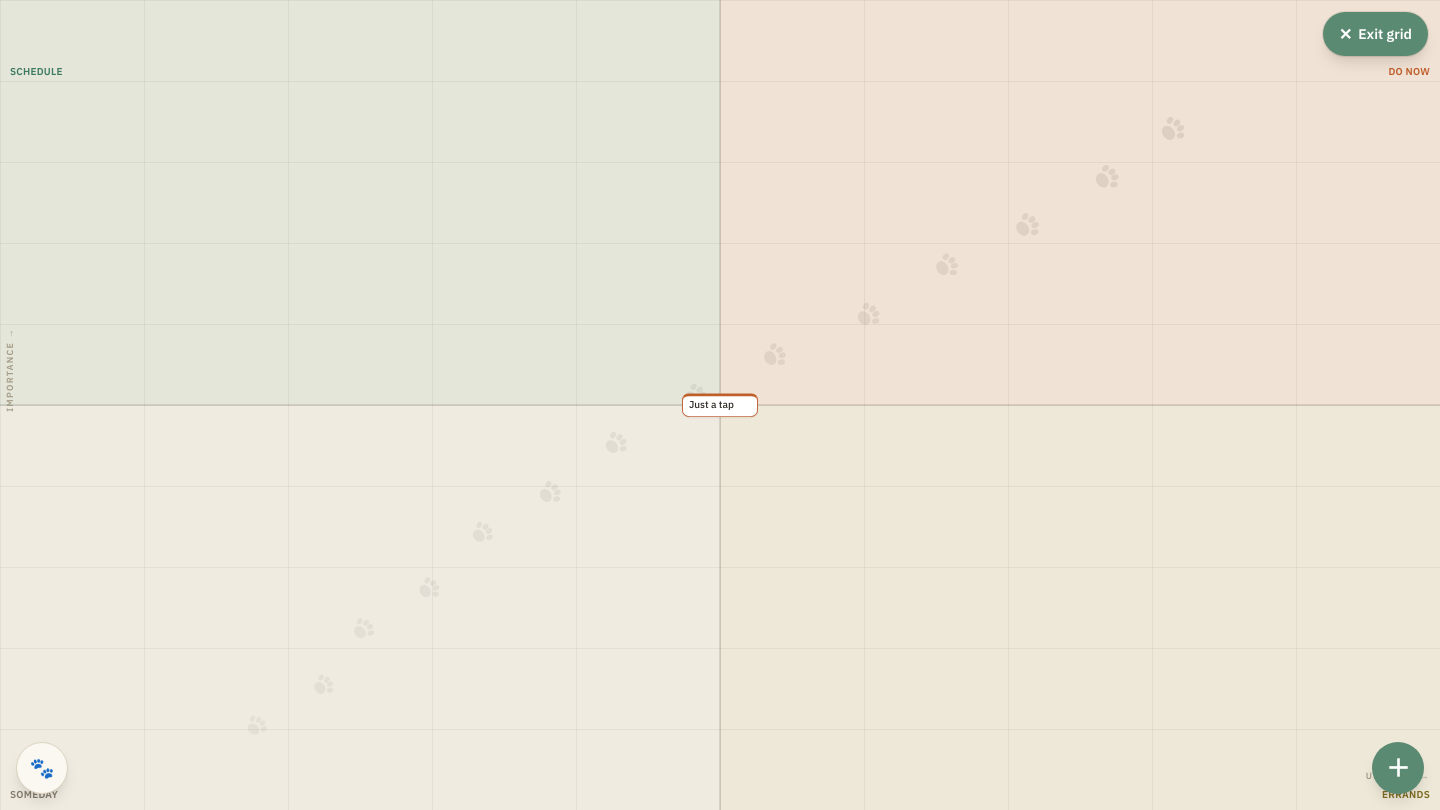
Test case: TouchGridSurface hold-drag › a quick press-and-release still opens the sheet (the hook delivers the tap)
Press the mouse on the button "Just a tap" at (720, 405), box [682,393,758,417]
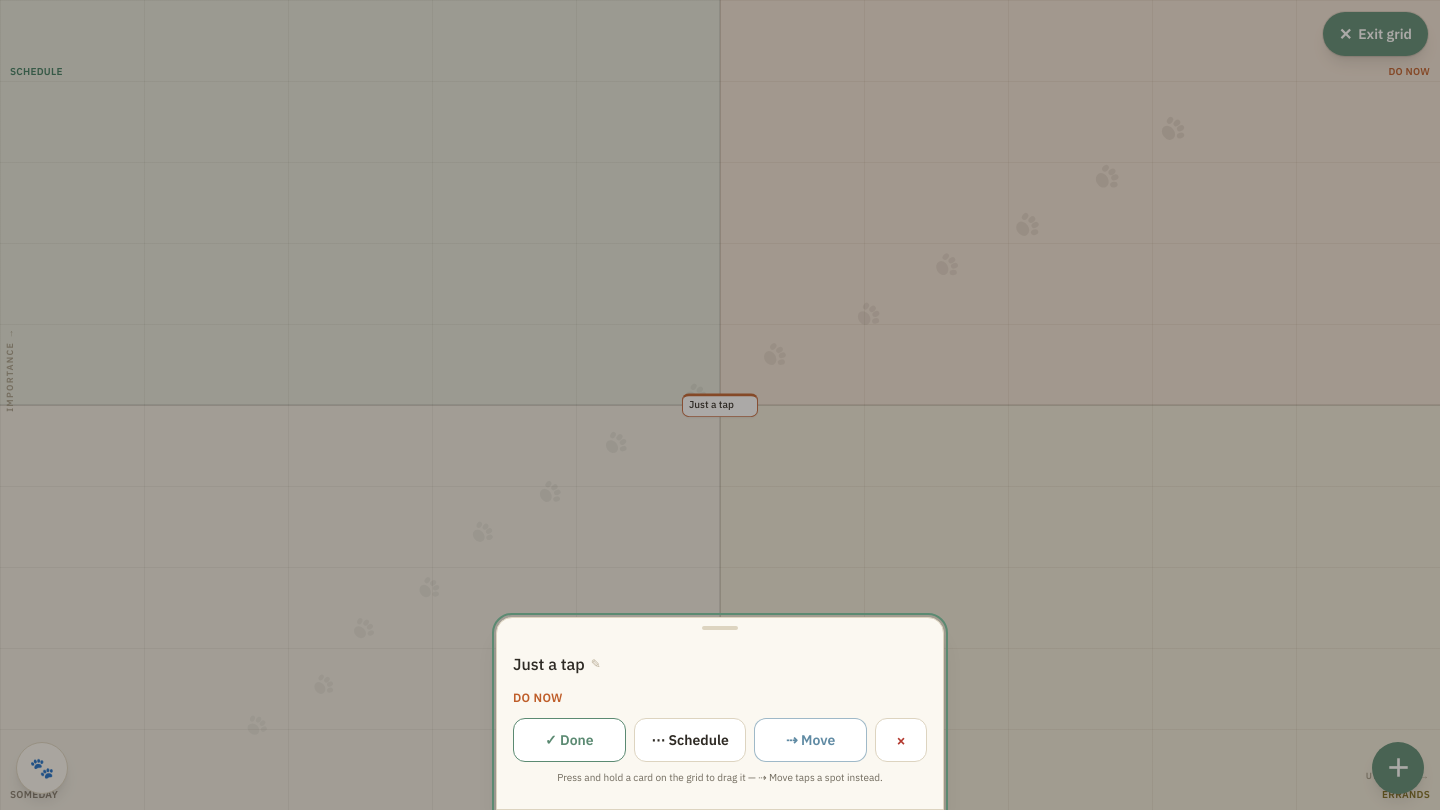
Check: the dialog named "Task: Just a tap" is shown, box [496,617,944,809]
